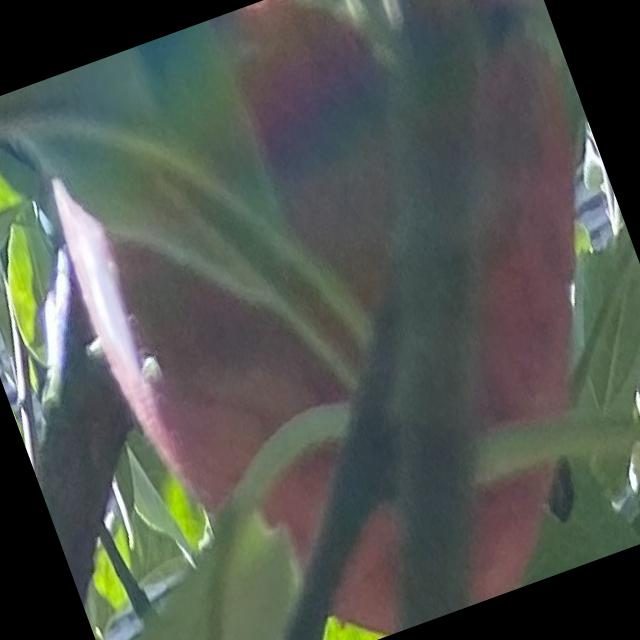Apples: (6, 0, 639, 639)
